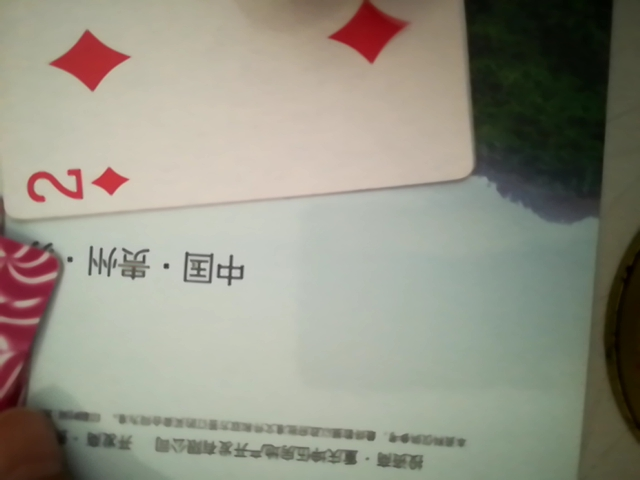fk 2: (0, 0, 475, 219)
